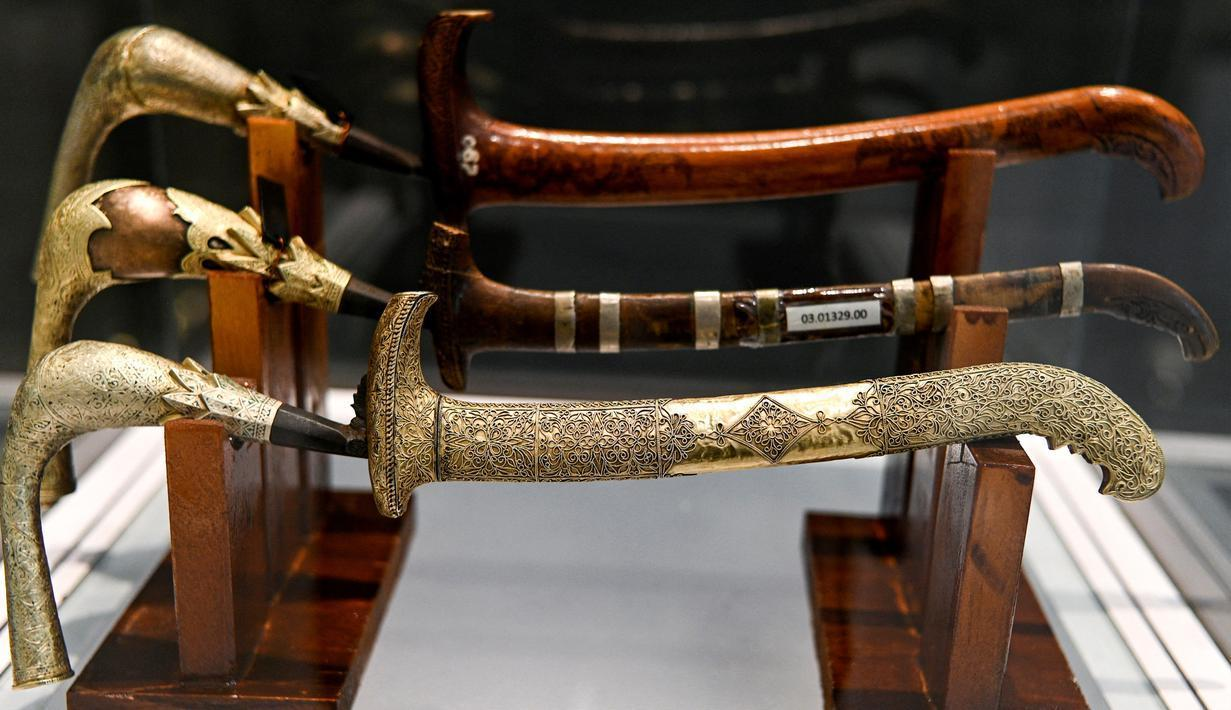facao: (48, 320, 1136, 548), (222, 208, 1206, 394), (137, 29, 1171, 187)
